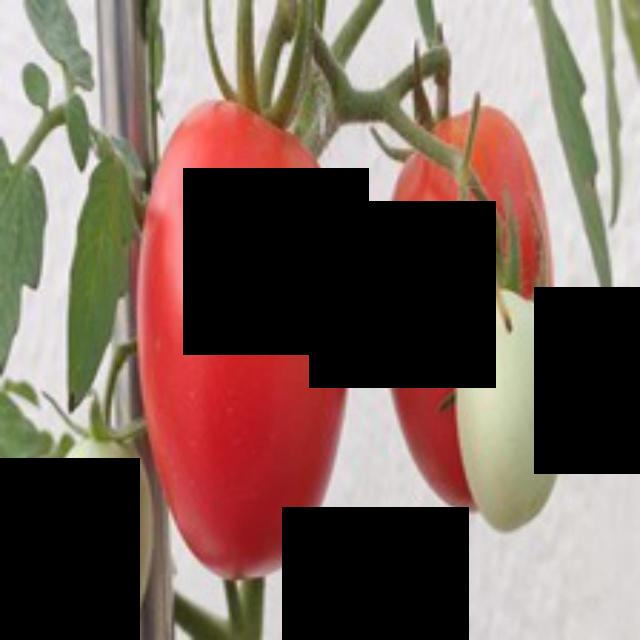tomato: (133, 89, 350, 589)
